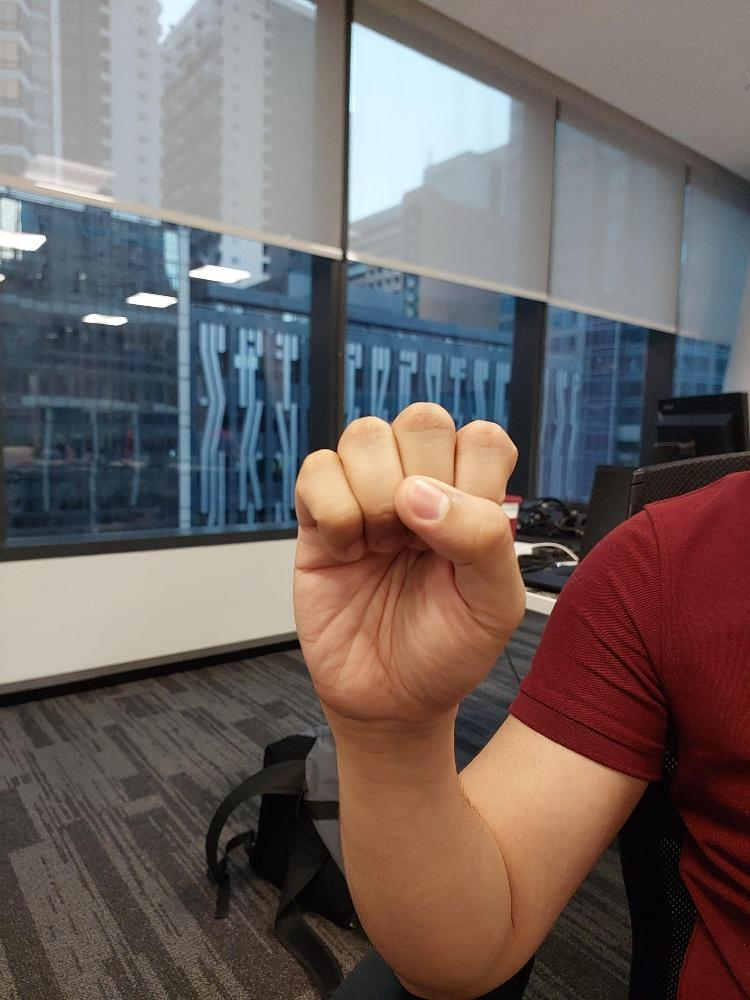s: (289, 399, 530, 729)
